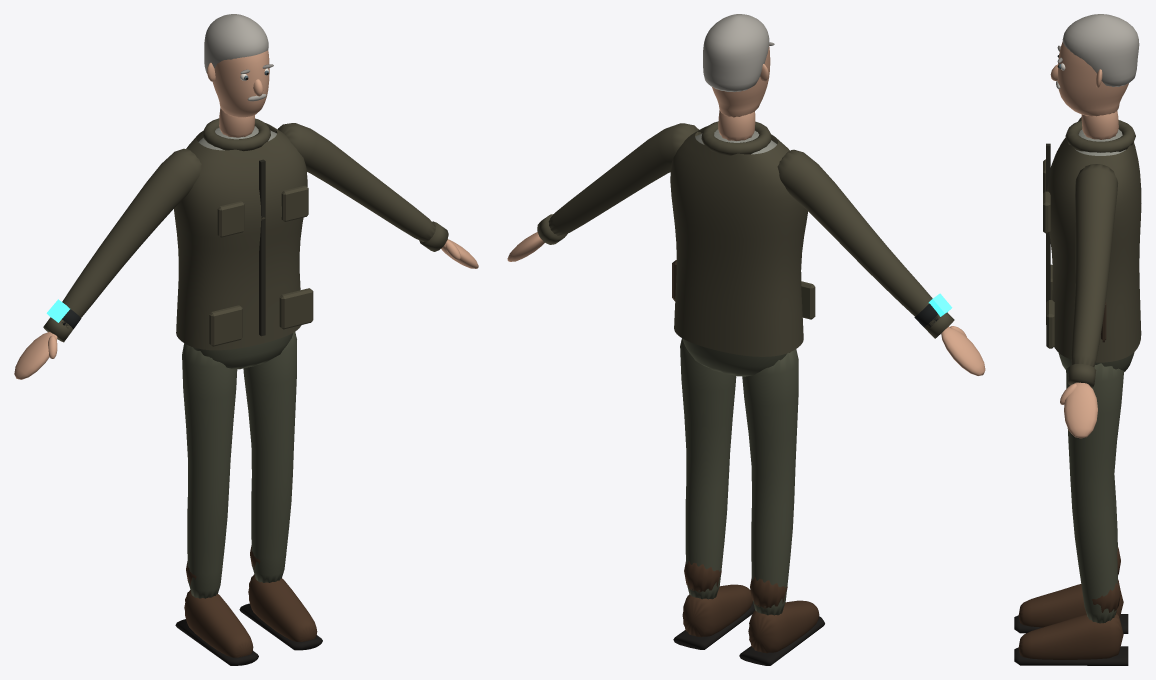
The model's file is viktor_halm.glb.
3 views of the same model, side by side, from view 1: azimuth 30°, elevation 25°; view 2: azimuth 150°, elevation 25°; view 3: azimuth 270°, elevation 25° (orthographic). The views are drawn at different scales.
Parts seen in each view (by area): view 1: viktor_halm; view 2: viktor_halm; view 3: viktor_halm.
Boxes of the visible parts, bbox=[...] form: viktor_halm: bbox=[14, 14, 478, 665]; viktor_halm: bbox=[507, 14, 985, 665]; viktor_halm: bbox=[1014, 14, 1141, 665].
Size of the model in its own units: 1.46 by 1.86 by 0.3398.
